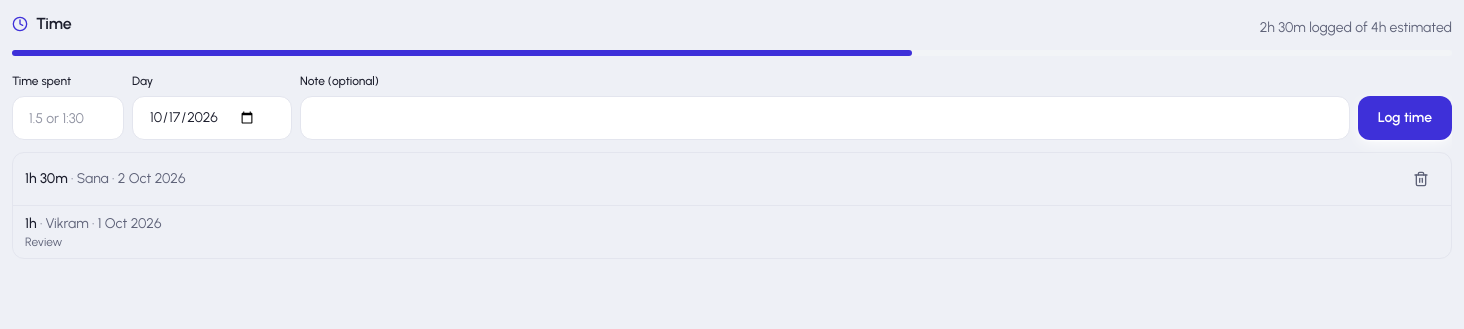
TaskTime › logs time typed the way people type it, and refuses nonsense
The image size is (1464, 329).
Expected: the text "2h 30m logged of 4h estimated" is shown, [1260, 18, 1452, 38]
In the field labelled "Time spent": x=68, y=118 [12, 96, 124, 140], type "lots"
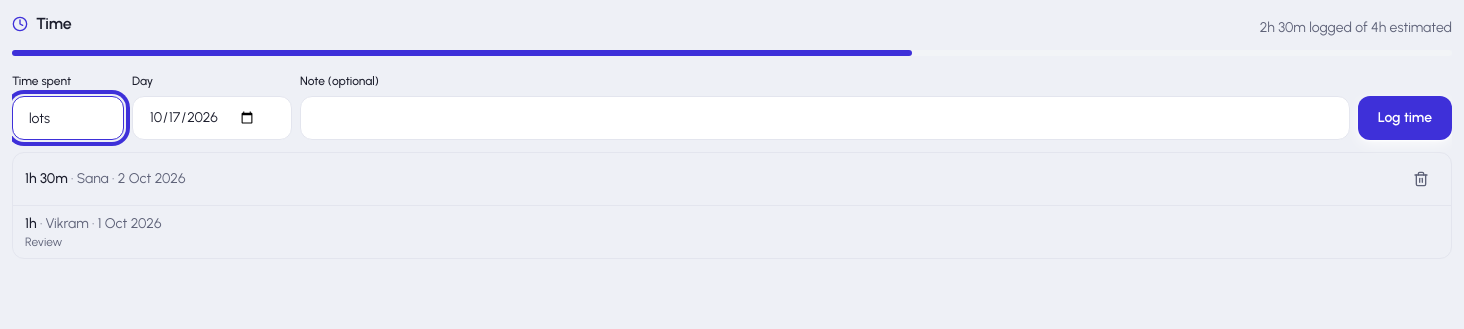
Click the button "Log time": x=1405, y=118 [1358, 96, 1452, 140]
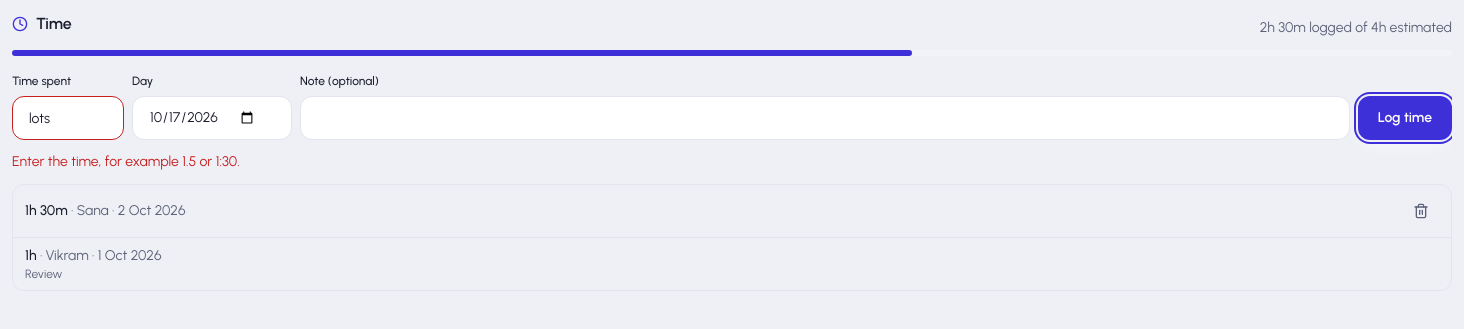
Now the text "Enter the time, for example 1.5 or 1:30." is shown, box [12, 153, 240, 170]
Replace the text in the field labelled "Time spent" with "1:45": x=68, y=118 [12, 96, 124, 140]
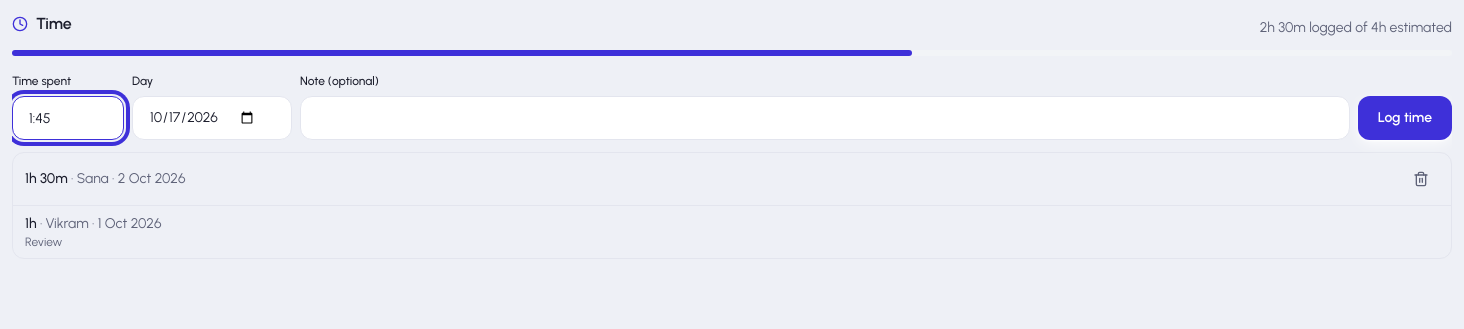
In the field labelled "Note (optional)": x=825, y=118 [300, 96, 1350, 140], type "Pairing"
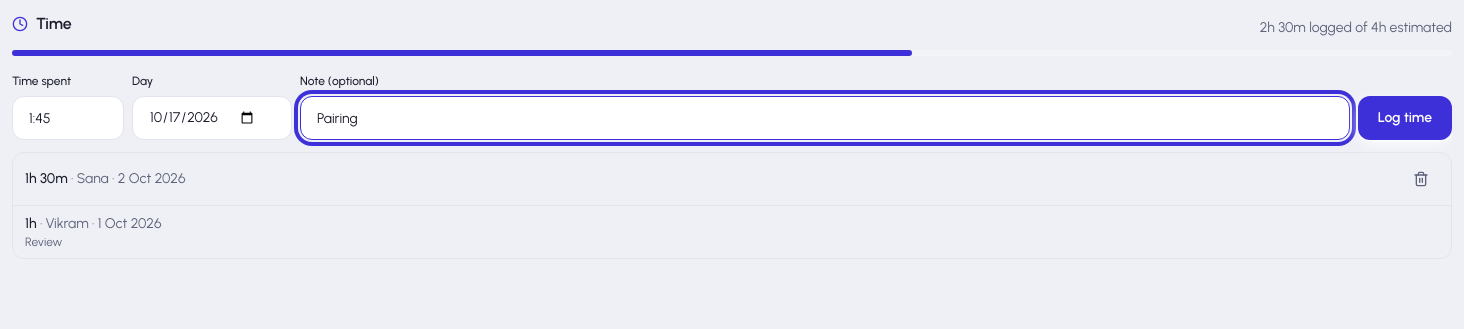
Click the button "Log time": x=1405, y=118 [1358, 96, 1452, 140]
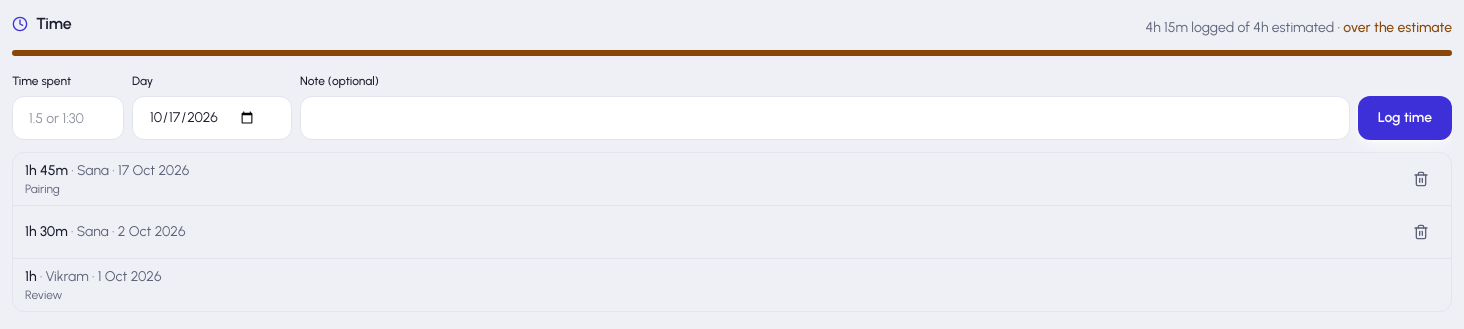
Now the text "4h 15m logged of 4h estimated · over the estimate" is shown, box [1146, 18, 1452, 38]
Now the text "· over the estimate" is shown, box [1334, 19, 1452, 36]
